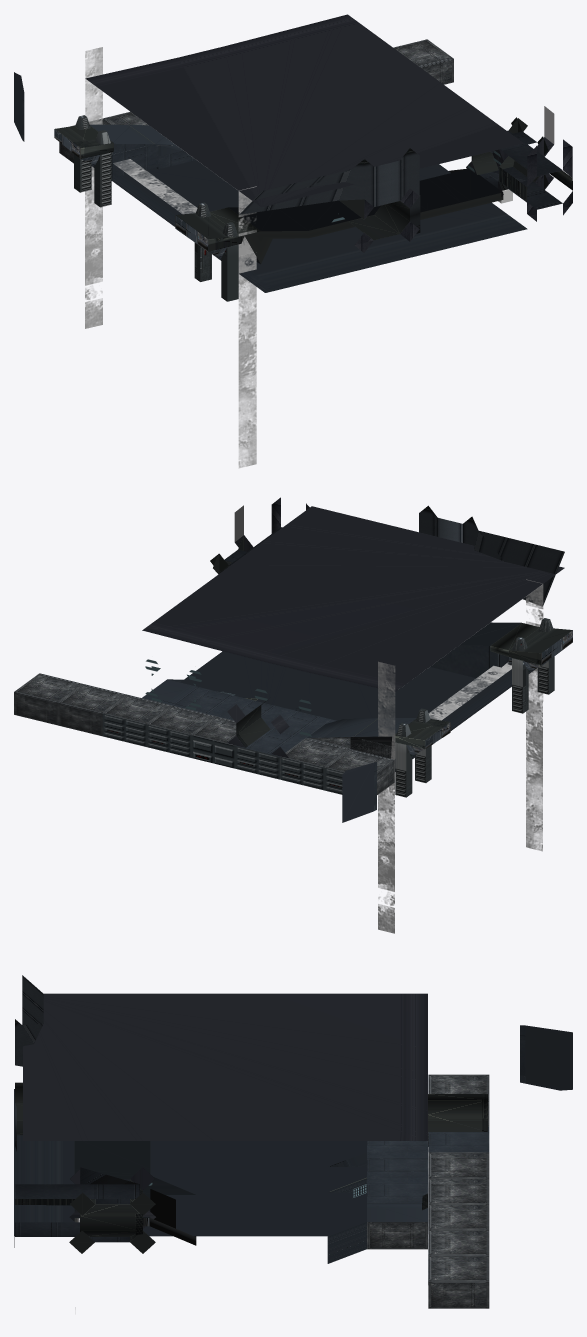
Rendered from sub_hangar.gltf.
3 views of the same model, one above another, from view 1: azimuth 30°, elevation 25°; view 2: azimuth 150°, elevation 25°; view 3: azimuth 270°, elevation 25° (orthographic). The views are drawn at different scales.
Parts seen in each view (by area): view 1: tridngons4, tridngons1, ramp4, hall999, polymsh_detached54, hall1000, polymsh_detached55, shipplat, ramp3, cube102, hall666, polymsh_detached30 (+1 smaller); view 2: tridngons4, tridngons1, ramp4, polymsh_detached55, hall999, backplat1, polymsh_detached54, ramp3, shipplat, cube102, cube99, cube100 (+10 smaller); view 3: tridngons4, tridngons1, backplat1, hall1000, ramp4, cube102, outsidepanel, hall666, hall6, hall999, cube99, cube100 (+4 smaller).
Boxes of the visible parts, x1,y1,x2,y2 form: tridngons4: (85,14,523,207); tridngons1: (91,160,527,292); ramp4: (175,169,503,301); hall999: (239,148,420,252); polymsh_detached54: (238,186,256,468); hall1000: (487,106,572,221); polymsh_detached55: (85,47,102,328); shipplat: (90,124,195,178); ramp3: (54,115,113,207); cube102: (393,39,453,84); hall666: (466,117,548,196); polymsh_detached30: (113,159,253,255); tridngons4: (142,506,564,691); tridngons1: (180,651,536,771); ramp4: (430,618,572,713); polymsh_detached55: (378,661,395,933); hall999: (419,505,564,606); backplat1: (142,679,330,738); polymsh_detached54: (526,579,543,851); ramp3: (393,708,450,797); shipplat: (306,718,416,768); cube102: (14,673,83,725); cube99: (58,684,127,736); cube100: (147,705,216,757); tridngons4: (23,993,427,1140); tridngons1: (14,1089,366,1236); backplat1: (327,1141,427,1263); hall1000: (14,1167,139,1247); ramp4: (74,1141,196,1245); cube102: (428,1255,489,1308); outsidepanel: (520,1025,572,1090); hall666: (69,1167,155,1253); hall6: (428,1094,487,1146); hall999: (15,975,43,1151); cube99: (428,1229,489,1255); cube100: (428,1178,489,1203).
Bounding box in the file's own units: 69.69 × 50.81 × 73.37.
Materials: 38 (36 with a texture image).
